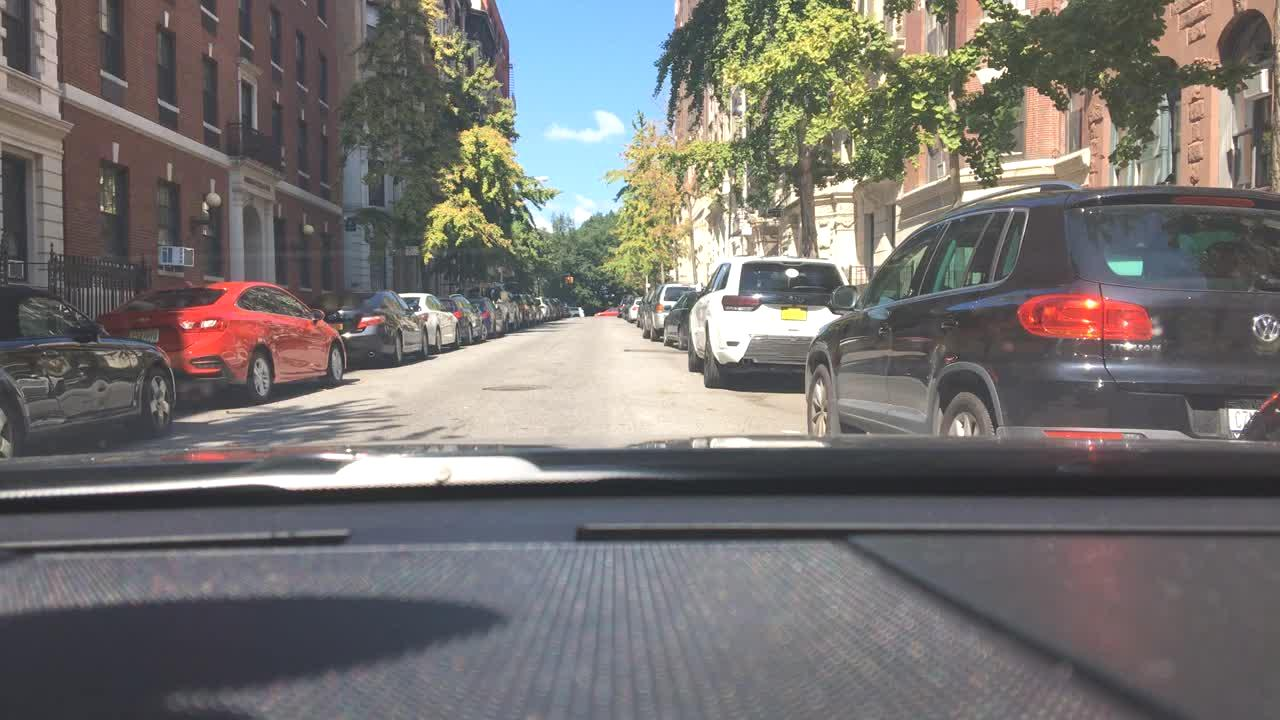Volkswagen: (1235, 306, 1280, 353)
